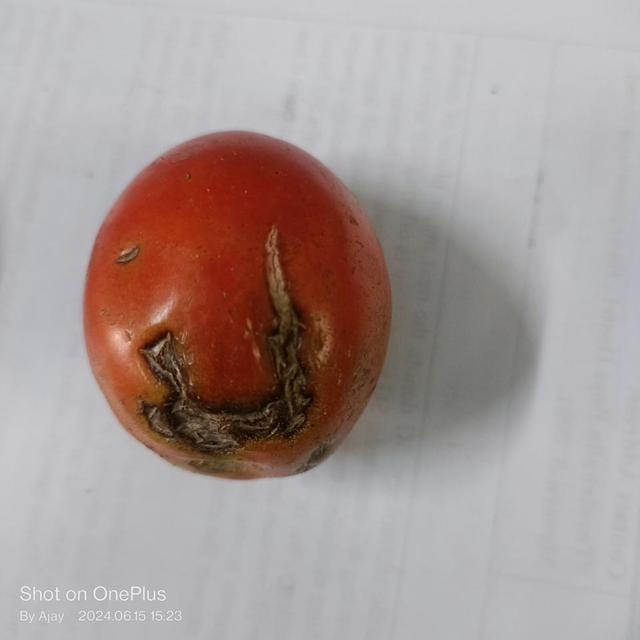Cracking Fruit: (62, 135, 152, 396)
